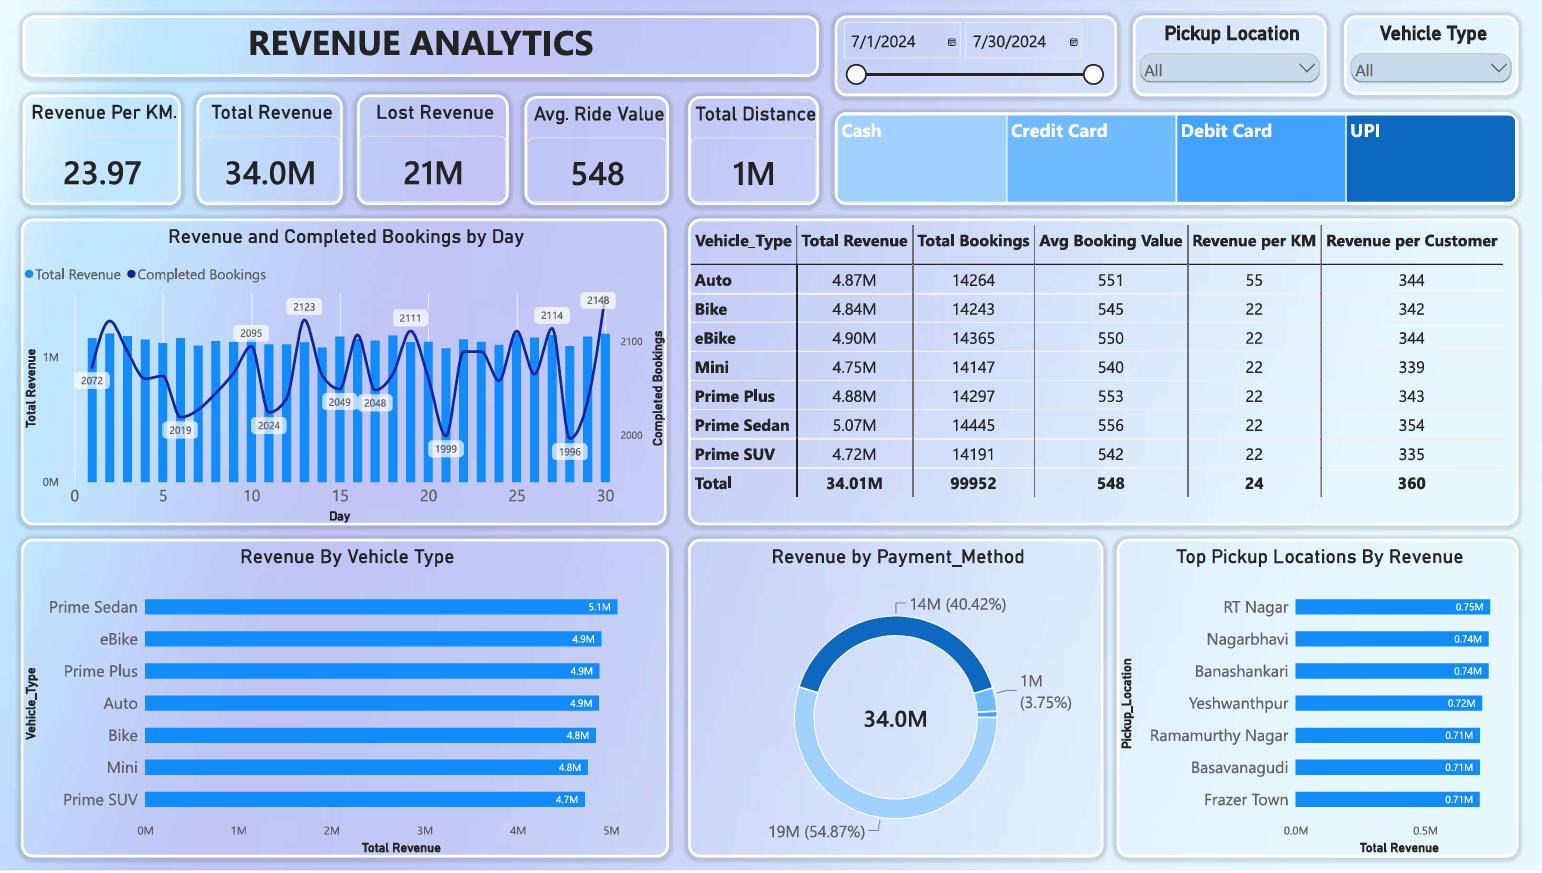

The dashboard page shown, as its layout file describes it:
{"tool":"powerbi","page":{"name":"Revenue","canvas":[1920,1080],"ordinal":2},"visuals":[{"type":"slicer","title":"DATE","fields":{"Values":["Bookings.Date"]},"box":[1036.8,19.6,350.5,100.5],"z":0},{"type":"slicer","title":"Vehicle Type","fields":{"Values":["Bookings.Vehicle_Type"]},"box":[1669.2,19.6,215.7,98],"z":1000},{"type":"treemap","fields":{"Group":["Bookings.Payment_Method"],"Values":["Count(Bookings.Payment_Method)"]},"box":[1036.8,139.7,848.1,115.2],"z":2000},{"type":"slicer","title":"Pickup Location","fields":{"Values":["Bookings.Pickup_Location"]},"box":[1406.9,19.6,240.2,100.5],"z":3000},{"type":"textbox","box":[29.4,19.6,987.8,76],"z":4000},{"type":"cardVisual","title":"Total Revenue","fields":{"Data":["Bookings.Total Revenue"]},"box":[245.1,117.7,181.4,137.3],"z":5000},{"type":"cardVisual","title":"Avg. Ride Value","fields":{"Data":["Bookings.Avg Booking Value"]},"box":[652,120.1,178.9,134.8],"z":6000},{"type":"cardVisual","title":"Revenue Per KM.","fields":{"Data":["Bookings.Revenue per KM"]},"box":[29.4,117.7,196.1,137.3],"z":7000},{"type":"cardVisual","title":"Lost Revenue","fields":{"Data":["Bookings.Lost Revenue"]},"box":[443.6,117.7,188.7,137.3],"z":8000},{"type":"cardVisual","title":"Total Distance","fields":{"Data":["Sum(Bookings.Ride_Distance)"]},"box":[855.4,120.1,161.8,134.8],"z":9000},{"type":"lineClusteredColumnComboChart","title":"Revenue and Completed Bookings by Day","fields":{"Category":["Bookings.Date.Variation.Date Hierarchy.Day"],"Y":["Bookings.Total Revenue"],"Y2":["Bookings.Completed Bookings"]},"box":[27,272.1,801.5,379.9],"z":10000},{"type":"clusteredBarChart","title":"Revenue By Vehicle Type","fields":{"Category":["Bookings.Vehicle_Type"],"Y":["Bookings.Total Revenue"]},"box":[27,669.1,804,394.6],"z":11000},{"type":"donutChart","title":"Revenue by Payment_Method","fields":{"Category":["Bookings.Payment_Method"],"Y":["Bookings.Total Revenue"]},"box":[855.4,669.1,514.7,394.6],"z":12000},{"type":"clusteredBarChart","title":"Top Pickup Locations By Revenue","fields":{"Category":["Bookings.Pickup_Location"],"Y":["Bookings.Total Revenue"]},"box":[1387.3,669.1,497.6,394.6],"z":13000},{"type":"pivotTable","fields":{"Rows":["Bookings.Vehicle_Type"],"Values":["Bookings.Total Revenue","Bookings.Total Bookings","Bookings.Avg Booking Value","Bookings.Revenue per KM","Bookings.Revenue per Customer"]},"box":[855.4,272.1,1029.5,379.9],"z":14000}]}

Visuals, with their boxes in screenshot pixels (x1, y1, x2, y2), scaled from the page's 1920x1080 canvas onto the 1542x873 screenshot:
"DATE" slicer: bbox=[833, 16, 1114, 97]
"Vehicle Type" slicer: bbox=[1341, 16, 1514, 95]
treemap - Bookings.Payment_Method x Count(Bookings.Payment_Method): bbox=[833, 113, 1514, 206]
"Pickup Location" slicer: bbox=[1130, 16, 1323, 97]
textbox: bbox=[24, 16, 817, 77]
"Total Revenue" cardVisual: bbox=[197, 95, 343, 206]
"Avg. Ride Value" cardVisual: bbox=[524, 97, 667, 206]
"Revenue Per KM." cardVisual: bbox=[24, 95, 181, 206]
"Lost Revenue" cardVisual: bbox=[356, 95, 508, 206]
"Total Distance" cardVisual: bbox=[687, 97, 817, 206]
"Revenue and Completed Bookings by Day" lineClusteredColumnComboChart: bbox=[22, 220, 665, 527]
"Revenue By Vehicle Type" clusteredBarChart: bbox=[22, 541, 667, 860]
"Revenue by Payment_Method" donutChart: bbox=[687, 541, 1100, 860]
"Top Pickup Locations By Revenue" clusteredBarChart: bbox=[1114, 541, 1514, 860]
pivotTable - Bookings.Vehicle_Type x Bookings.Total Revenue: bbox=[687, 220, 1514, 527]
